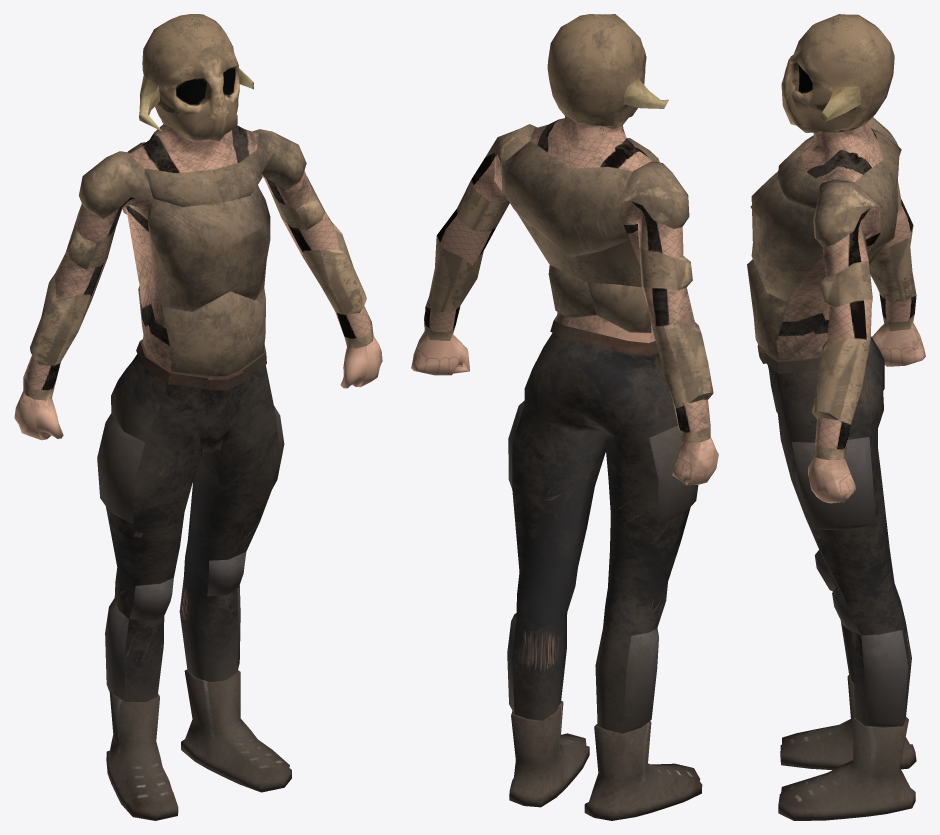
The model's file is Anim_ataque_d1_npc1.0034.obj.
The picture shows the model from 3 angles, left to right: view 1: azimuth 30°, elevation 25°; view 2: azimuth 150°, elevation 25°; view 3: azimuth 270°, elevation 25°; orthographic projection.
Visible parts, largest first — view 1: NPC2; view 2: NPC2; view 3: NPC2.
Boxes of the visible parts, x1=… form: NPC2: x1=14, y1=14, x2=382, y2=820; NPC2: x1=411, y1=14, x2=718, y2=820; NPC2: x1=747, y1=14, x2=925, y2=820.
Bounding box in the file's own units: 4.35 × 9.69 × 2.04.
